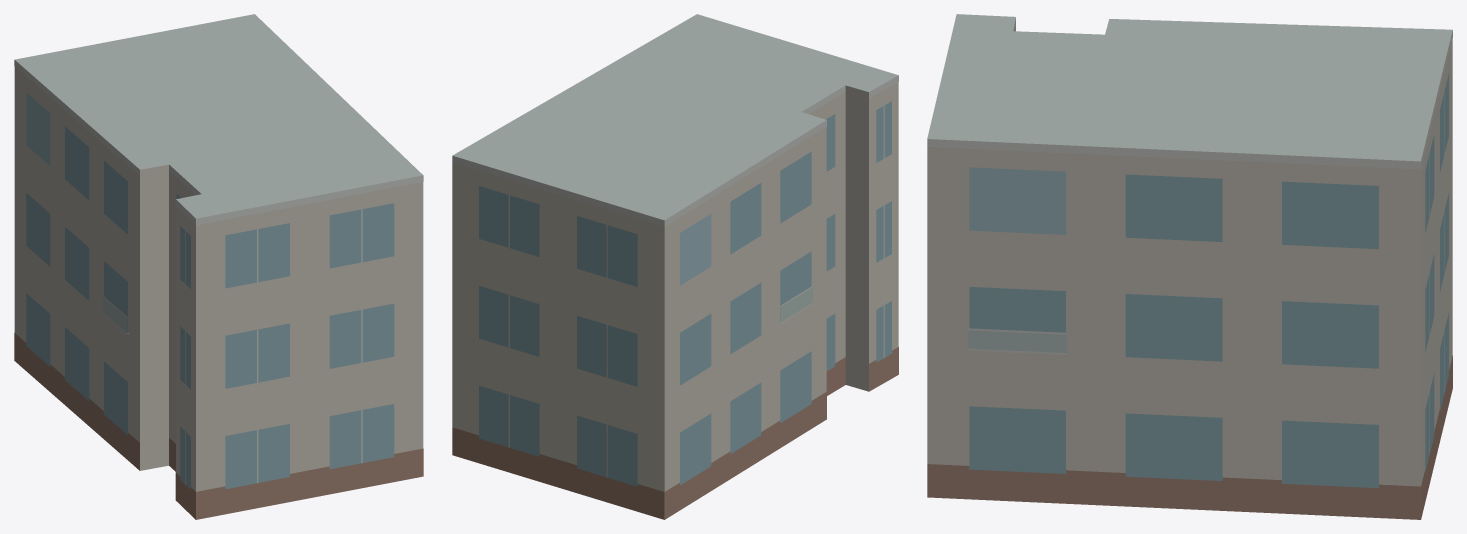
Rendered from survey-upis-32500761.glb.
3 renders of one model, left to right at view 1: azimuth 30°, elevation 25°; view 2: azimuth 150°, elevation 25°; view 3: azimuth 270°, elevation 25°, orthographic. The views are drawn at different scales.
Parts seen in each view (by area): view 1: survey-upis-32500761.tmp; view 2: survey-upis-32500761.tmp; view 3: survey-upis-32500761.tmp.
Boxes of the visible parts, box(x1,y1,x2,y2) form: survey-upis-32500761.tmp: box(14, 14, 423, 519); survey-upis-32500761.tmp: box(452, 14, 898, 519); survey-upis-32500761.tmp: box(927, 14, 1452, 519).
Bounding box in the file's own units: 9.89 × 11.2 × 14.9.
